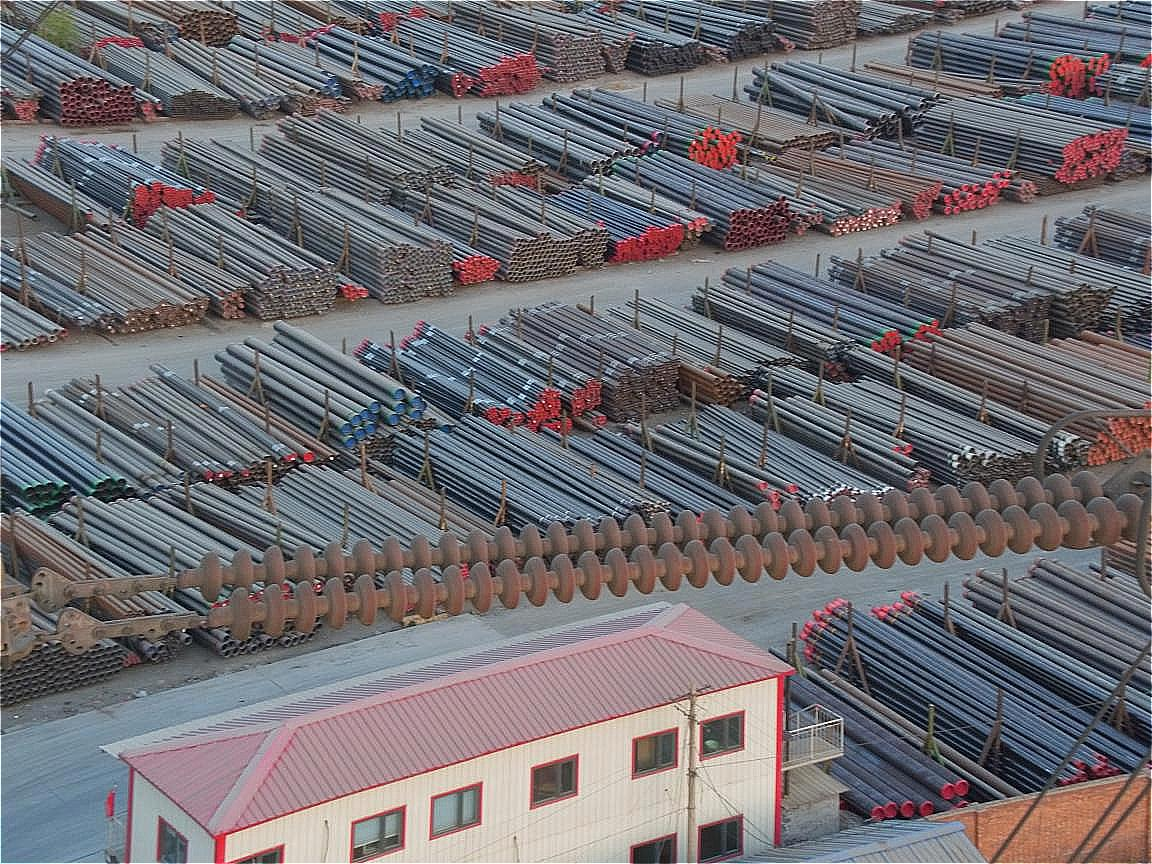insultor1: (158, 431, 1152, 653)
